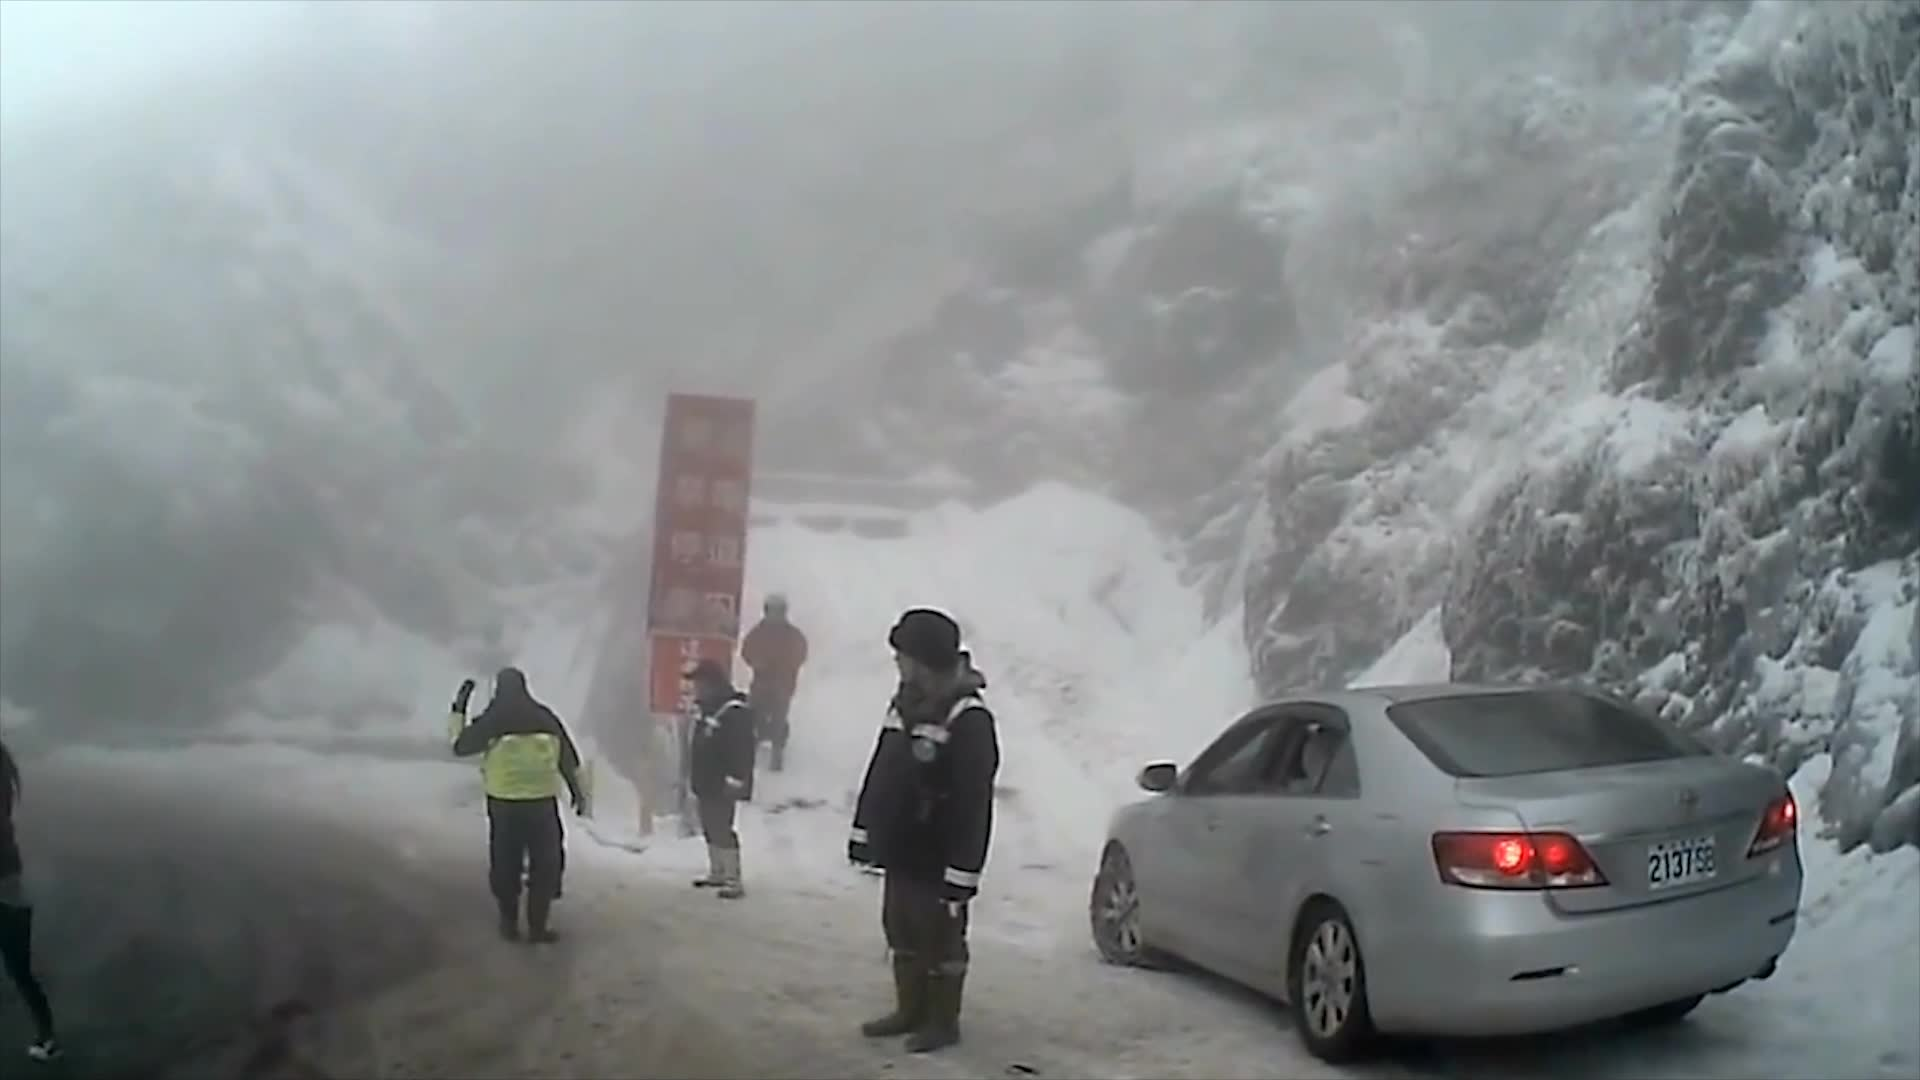pedestrian: (850, 606, 1001, 1053), (433, 665, 591, 937), (683, 655, 763, 898), (743, 584, 820, 778)
vehicle: (1089, 673, 1804, 1056)
